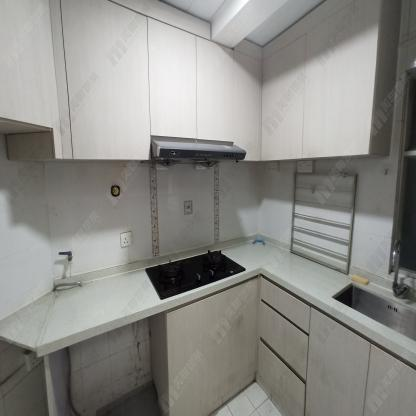Cupboard: (46, 0, 386, 163), (165, 273, 416, 416), (260, 0, 402, 161)
Exhaust Hood: (150, 137, 246, 171), (153, 140, 245, 171)
Faucet: (386, 235, 410, 301)
Sink: (314, 272, 416, 354)
Stove: (135, 242, 259, 313), (143, 248, 247, 301)
